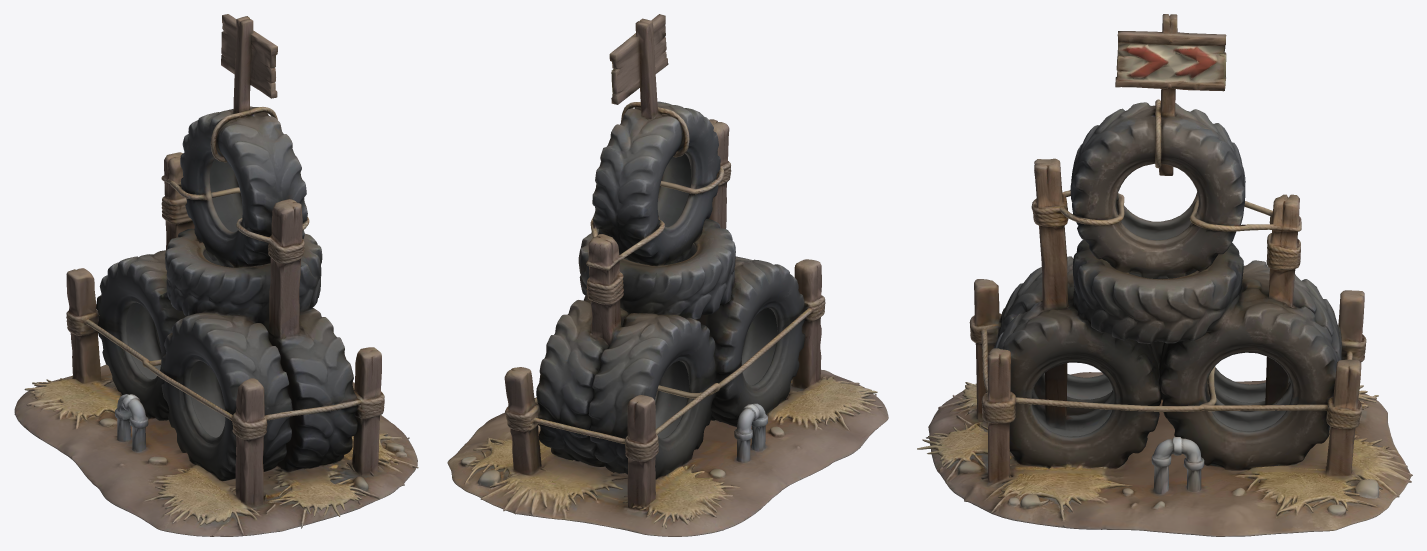
Rendered from tire+obstacle+3d+model.fbx.
3 renders of one model, left to right at view 1: azimuth 30°, elevation 25°; view 2: azimuth 150°, elevation 25°; view 3: azimuth 270°, elevation 25°, orthographic. The views are drawn at different scales.
Visible parts, largest first — view 1: meshes[0]; view 2: meshes[0]; view 3: meshes[0].
Boxes of the visible parts, box(x1,y1,x2,y2) form: meshes[0]: box(14, 14, 418, 536); meshes[0]: box(447, 14, 888, 536); meshes[0]: box(917, 14, 1412, 536).
Bounding box in the file's own units: 0.7697 × 1 × 0.9937.
1 material, 1 textured.
